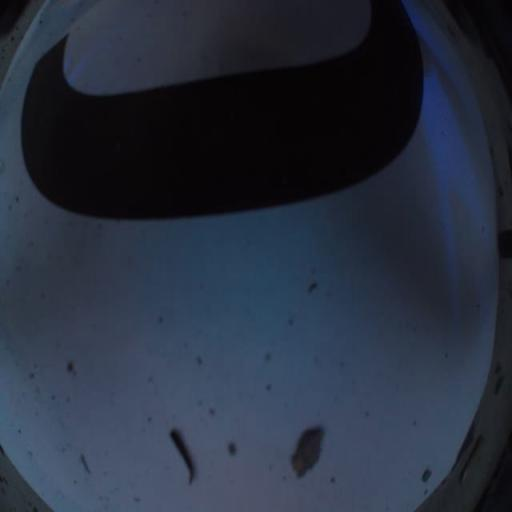D: (20, 0, 426, 219)
